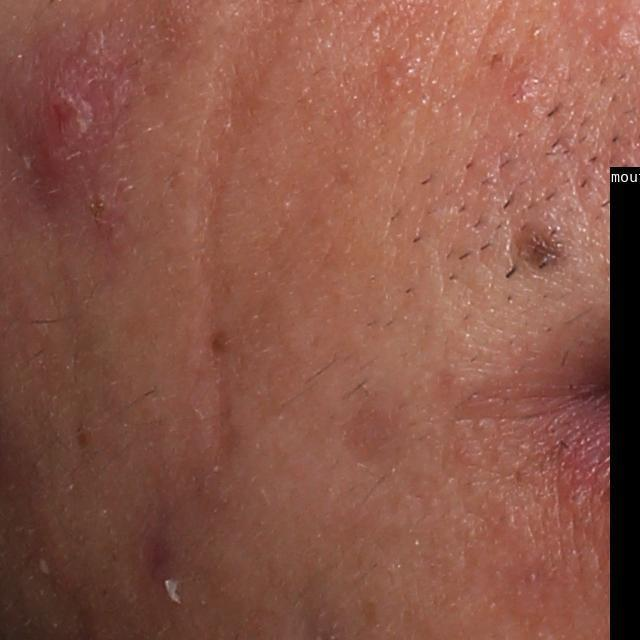comedo: (606, 21, 633, 45)
nevus: (520, 224, 567, 277)
